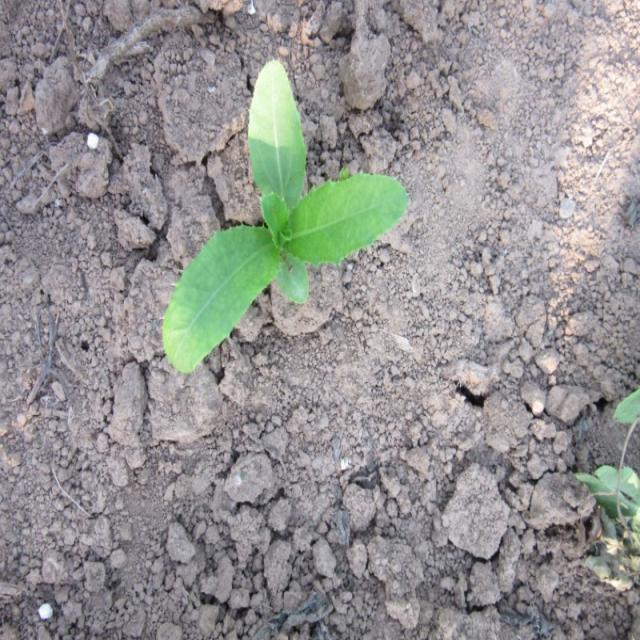cs: (163, 58, 409, 371)
